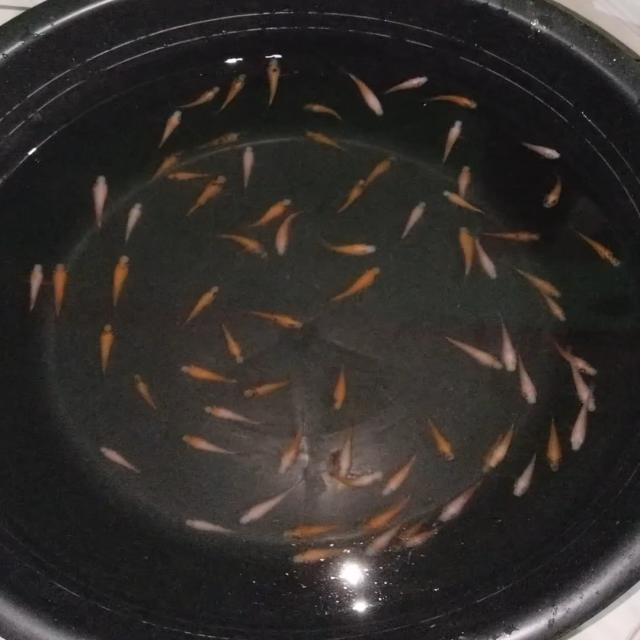nila: (233, 476, 314, 528), (436, 332, 507, 373), (338, 64, 389, 120), (362, 484, 422, 528), (328, 262, 384, 308), (178, 172, 232, 219), (567, 343, 600, 417), (438, 476, 488, 524), (547, 335, 602, 378), (276, 408, 310, 476), (176, 282, 223, 330), (238, 196, 297, 232), (177, 430, 243, 462), (337, 416, 368, 484), (574, 228, 624, 270), (568, 383, 598, 453), (281, 542, 368, 566), (378, 454, 425, 498), (360, 518, 408, 559), (208, 230, 272, 260), (94, 445, 152, 478), (46, 258, 74, 326), (511, 445, 544, 501), (510, 264, 563, 298), (489, 416, 521, 472), (177, 361, 242, 388), (276, 518, 352, 541), (320, 233, 383, 260), (425, 415, 459, 465), (323, 464, 388, 490), (194, 124, 254, 152), (495, 308, 520, 374), (234, 308, 309, 330), (182, 516, 245, 542), (151, 103, 183, 154), (202, 402, 272, 425), (535, 165, 569, 212), (515, 355, 542, 413), (387, 530, 446, 556), (216, 70, 250, 115), (20, 260, 47, 316), (436, 117, 466, 167), (438, 188, 486, 219), (217, 321, 250, 366), (392, 511, 432, 548), (177, 80, 223, 112), (276, 207, 304, 259), (361, 153, 398, 192), (544, 410, 566, 473), (398, 198, 428, 244), (144, 148, 179, 187), (417, 91, 482, 112), (302, 128, 354, 154), (471, 234, 498, 284), (108, 252, 130, 313), (242, 375, 300, 398), (299, 99, 348, 126), (455, 222, 476, 284), (381, 72, 431, 98), (336, 176, 370, 214), (128, 372, 160, 412), (122, 198, 147, 248), (92, 173, 110, 241), (262, 52, 283, 110), (237, 141, 258, 199), (480, 429, 508, 472), (514, 137, 562, 162), (541, 286, 571, 326), (485, 225, 548, 244), (452, 162, 475, 214), (98, 318, 116, 382), (330, 356, 350, 409), (164, 167, 219, 182)
